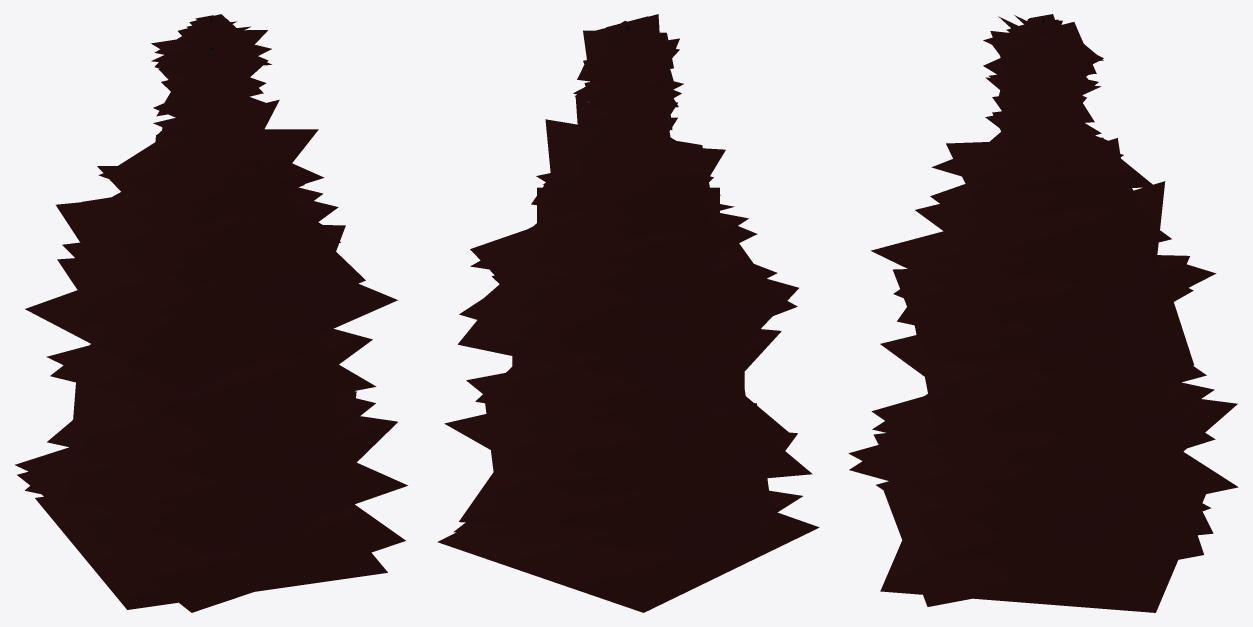
The model's file is trees.fbx.
3 renders of one model, left to right at view 1: azimuth 30°, elevation 25°; view 2: azimuth 150°, elevation 25°; view 3: azimuth 270°, elevation 25°, orthographic. The views are drawn at different scales.
Parts seen in each view (by area): view 1: tree_1; view 2: tree_1; view 3: tree_1.
Part boxes in pixels (bbox=[...]): tree_1: bbox=[15, 14, 407, 612]; tree_1: bbox=[437, 14, 819, 612]; tree_1: bbox=[848, 14, 1238, 612].
Size of the model in its own units: 1507 by 2286 by 1507.
